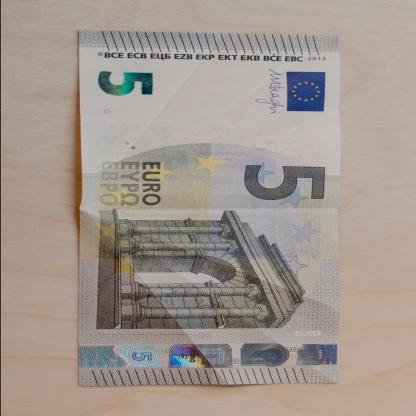euro_banknote: (33, 80, 388, 341)
